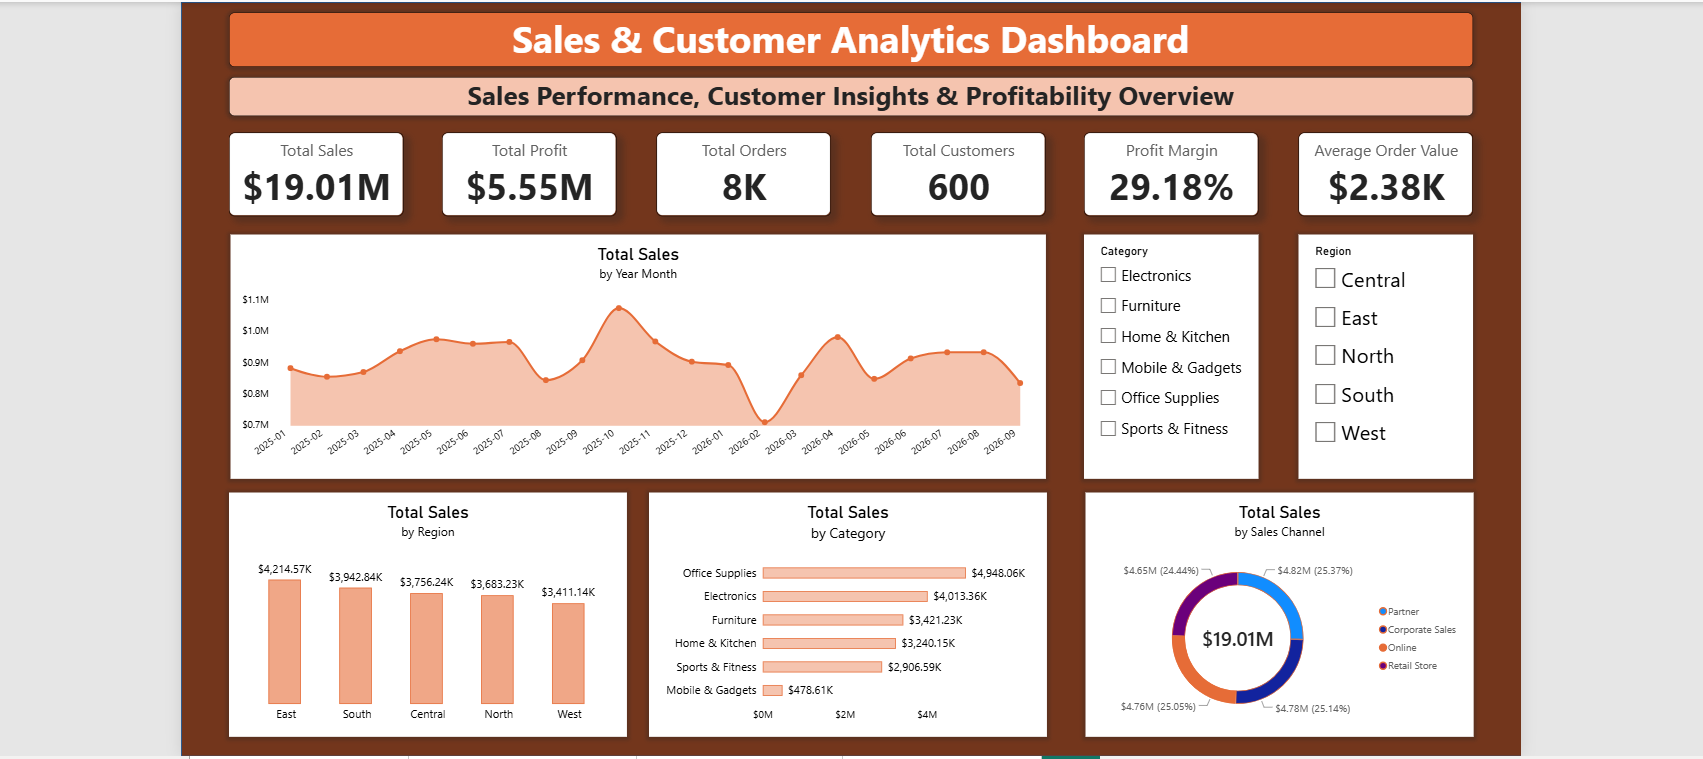

The page's visual inventory and layout, read from the dashboard file:
{"tool":"powerbi","page":{"name":"Executive Overview","canvas":[1920,1080],"ordinal":0},"visuals":[{"type":"shape","box":[0,0,1920.8,1080.7],"z":0},{"type":"cardVisual","fields":{"Data":["Raw Sales Data.Total Sales"]},"box":[68.5,188,250,120],"z":1000},{"type":"cardVisual","fields":{"Data":["Raw Sales Data.Total Profit"]},"box":[374.9,188,250,120],"z":2000},{"type":"cardVisual","fields":{"Data":["Raw Sales Data.Total Orders"]},"box":[681.3,188,250,120],"z":3000},{"type":"cardVisual","fields":{"Data":["Raw Sales Data.Total Customers"]},"box":[987.7,188,250,120],"z":4000},{"type":"cardVisual","fields":{"Data":["Raw Sales Data.Profit Margin"]},"box":[1294.1,188,250,120],"z":5000},{"type":"cardVisual","fields":{"Data":["Raw Sales Data.Average Order Value"]},"box":[1600.5,188,250,120],"z":6000},{"type":"textbox","box":[68,16,1782,78],"z":7000},{"type":"textbox","box":[68,108,1782,56],"z":8000},{"type":"lineChart","fields":{"Category":["Date Table.Year Month"],"Y":["Raw Sales Data.Total Sales"]},"box":[70.5,332,1168,350],"z":9000},{"type":"clusteredBarChart","fields":{"Category":["Product Master.Category"],"Y":["Raw Sales Data.Total Sales"]},"box":[669.5,703.3,570,350],"z":10000},{"type":"clusteredColumnChart","fields":{"Category":["Raw Sales Data.Region"],"Y":["Raw Sales Data.Total Sales"]},"box":[69.5,703.3,570,350],"z":11000},{"type":"donutChart","fields":{"Category":["Raw Sales Data.Sales Channel"],"Y":["Raw Sales Data.Total Sales"]},"box":[1295.5,703.3,556,350],"z":12000},{"type":"slicer","fields":{"Values":["Raw Sales Data.Region"]},"box":[1600.5,332,250,350],"z":13000},{"type":"slicer","fields":{"Values":["Product Master.Category"]},"box":[1294.5,332,250,350],"z":14000}]}

Visuals, with their boxes in screenshot pixels (x1, y1, x2, y2):
shape: detection(186, 0, 1516, 748)
cardVisual - Raw Sales Data.Total Sales: detection(234, 130, 407, 213)
cardVisual - Raw Sales Data.Total Profit: detection(446, 130, 619, 213)
cardVisual - Raw Sales Data.Total Orders: detection(658, 130, 831, 213)
cardVisual - Raw Sales Data.Total Customers: detection(870, 130, 1043, 213)
cardVisual - Raw Sales Data.Profit Margin: detection(1082, 130, 1256, 213)
cardVisual - Raw Sales Data.Average Order Value: detection(1295, 130, 1468, 213)
textbox: detection(233, 11, 1467, 65)
textbox: detection(233, 75, 1467, 114)
lineChart - Date Table.Year Month x Raw Sales Data.Total Sales: detection(235, 230, 1044, 472)
clusteredBarChart - Product Master.Category x Raw Sales Data.Total Sales: detection(650, 487, 1045, 729)
clusteredColumnChart - Raw Sales Data.Region x Raw Sales Data.Total Sales: detection(234, 487, 629, 729)
donutChart - Raw Sales Data.Sales Channel x Raw Sales Data.Total Sales: detection(1083, 487, 1468, 729)
slicer - Raw Sales Data.Region: detection(1295, 230, 1468, 472)
slicer - Product Master.Category: detection(1083, 230, 1256, 472)
